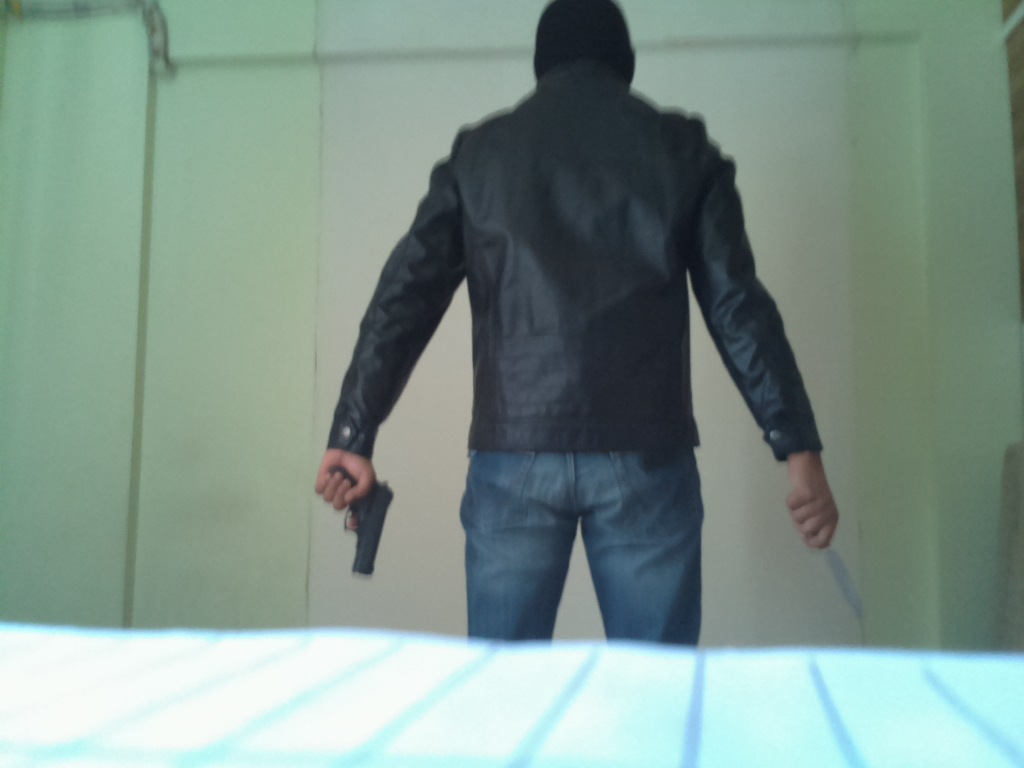gun: (328, 467, 402, 580)
